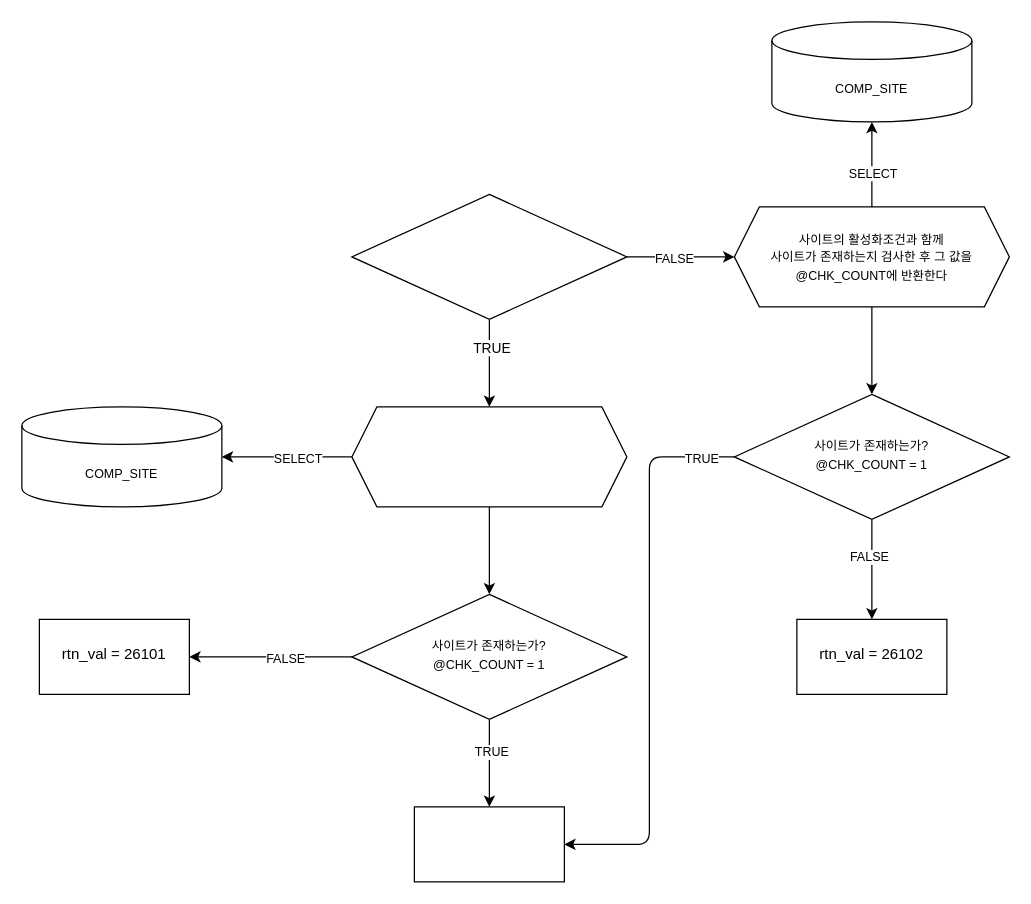
The diagram is 1031 pixels wide and 904 high, and some of its shapes have lost their labels. Each missing label, with the box of its shape:
rtn_val = 0: (413, 806, 564, 882)
사이트 활성화 조건이 없는가? IN_ACTIVE IS NULL: (351, 193, 627, 319)
사이트의 활성화에 상관없이 사이트가 존재하는지 검사한 후 그 값을@CHK_COUNT에 반환한다: (351, 406, 627, 507)
